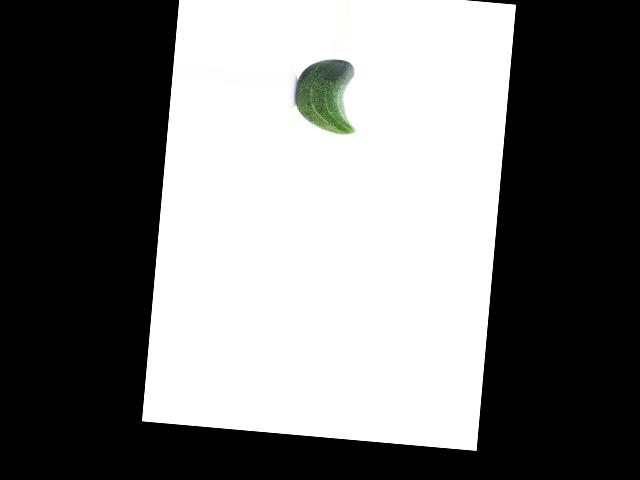cucumber: (292, 56, 360, 136)
